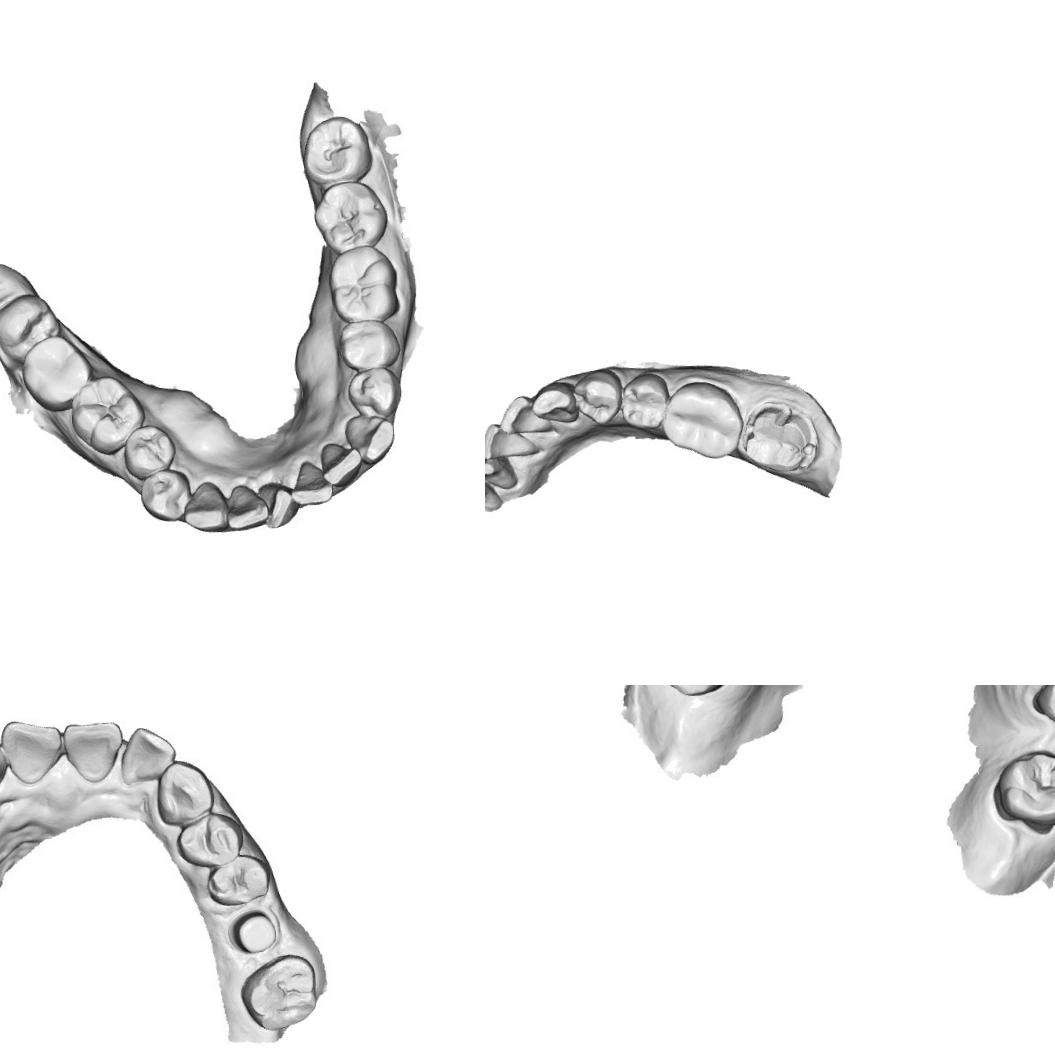abutment: (230, 909, 280, 959)
canine: (152, 755, 214, 829), (345, 408, 397, 466), (180, 481, 227, 535), (529, 380, 579, 423)
crown: (735, 395, 820, 480)
incisor: (1, 715, 64, 783), (116, 725, 175, 790), (64, 719, 119, 784), (498, 392, 552, 436), (485, 419, 539, 460), (226, 482, 271, 530), (319, 439, 360, 486), (259, 484, 299, 527), (295, 466, 334, 509), (485, 455, 518, 491)
molar: (658, 374, 749, 466), (235, 950, 319, 1034), (989, 744, 1055, 837), (67, 376, 141, 456), (22, 334, 89, 414), (300, 113, 373, 186), (308, 178, 382, 250), (328, 244, 397, 319), (0, 286, 63, 357)
premolar: (203, 849, 275, 912), (619, 369, 671, 431), (177, 817, 243, 865), (341, 316, 398, 371), (571, 366, 624, 425), (350, 366, 402, 422), (121, 420, 176, 471), (142, 467, 192, 521), (1029, 685, 1055, 736)
